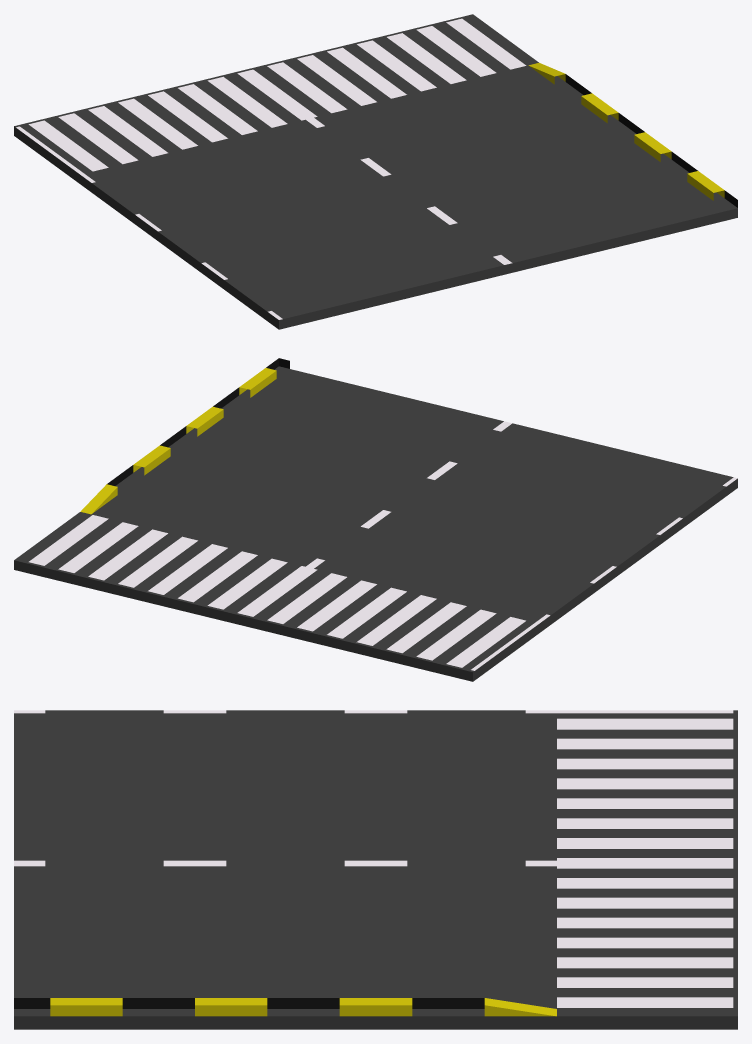
Rendered from major_road_straight_edge_crosswalk_flipped.glb.
The picture shows the model from 3 angles, top to bottom: view 1: azimuth 30°, elevation 25°; view 2: azimuth 150°, elevation 25°; view 3: azimuth 270°, elevation 25°; orthographic projection. The views are drawn at different scales.
Visible parts, largest first — view 1: MajorStraightEdgeCrosswalkFlipped; view 2: MajorStraightEdgeCrosswalkFlipped; view 3: MajorStraightEdgeCrosswalkFlipped.
Boxes of the visible parts, x1,y1,x2,y2 form: MajorStraightEdgeCrosswalkFlipped: (14, 14, 737, 329); MajorStraightEdgeCrosswalkFlipped: (14, 358, 737, 681); MajorStraightEdgeCrosswalkFlipped: (14, 710, 737, 1029).
Bounding box in the file's own units: 2 × 0.0741 × 2.
